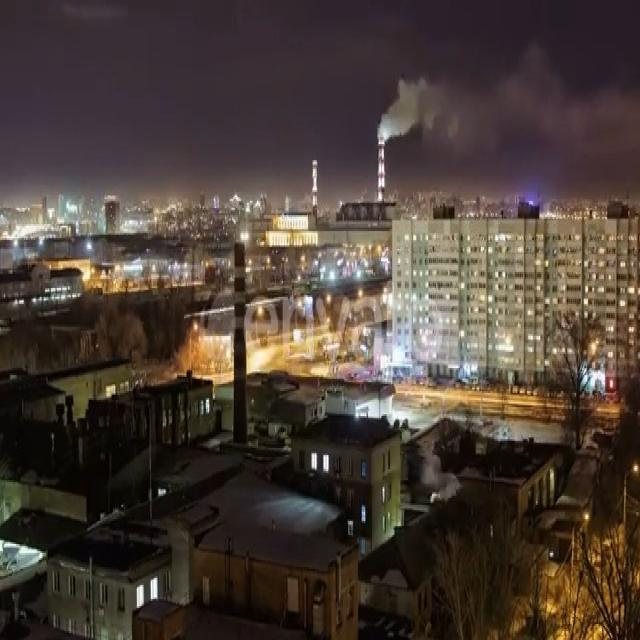smoke: (378, 46, 639, 149)
